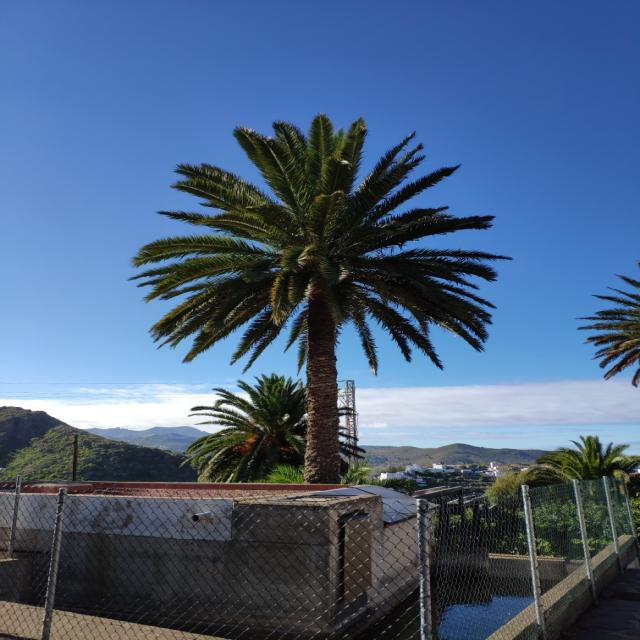Palm-Trees: (131, 110, 514, 483)
